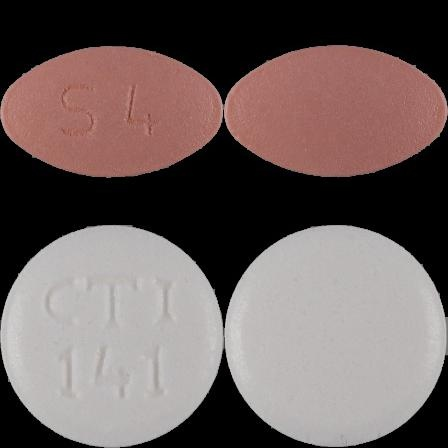33261-546: (0, 0, 224, 224)
